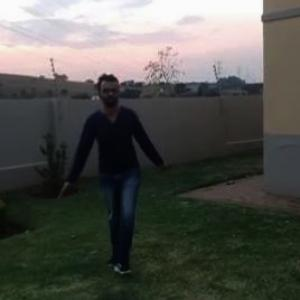land: (62, 74, 164, 285)
